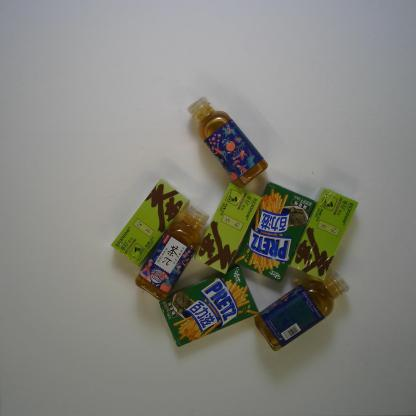Dessert: (233, 180, 316, 285), (158, 265, 260, 349)
Drink: (253, 270, 351, 353), (186, 96, 270, 188), (135, 204, 210, 302)
Instant Drink: (110, 178, 190, 268), (289, 186, 359, 283), (193, 181, 263, 277)
